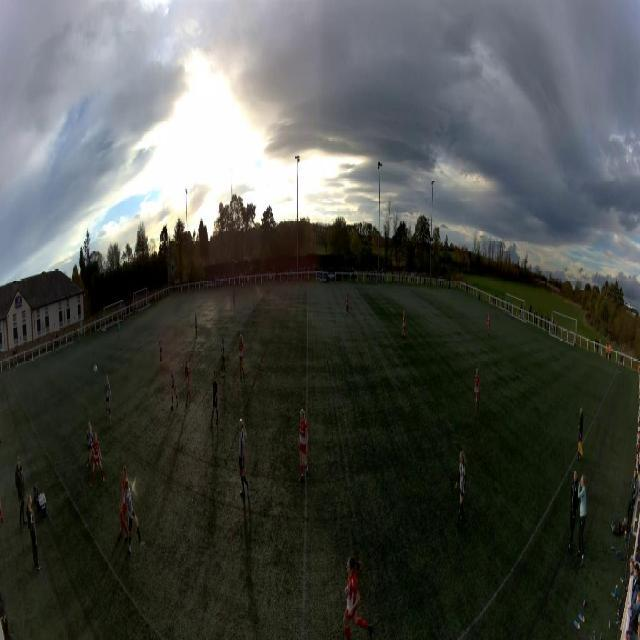ball: (93, 365, 97, 375)
player: (342, 552, 372, 640), (125, 478, 146, 555), (298, 410, 311, 481), (238, 416, 249, 497), (88, 432, 105, 484), (455, 450, 466, 529), (118, 465, 129, 540), (210, 370, 220, 424), (474, 369, 481, 417), (170, 366, 178, 408), (86, 421, 94, 459), (105, 375, 111, 419), (185, 359, 191, 403), (239, 336, 245, 378), (220, 338, 225, 376), (402, 311, 406, 346), (159, 335, 163, 366), (346, 292, 351, 316), (487, 313, 491, 337), (252, 299, 256, 323), (195, 312, 198, 338), (118, 320, 121, 338), (233, 290, 235, 306)
